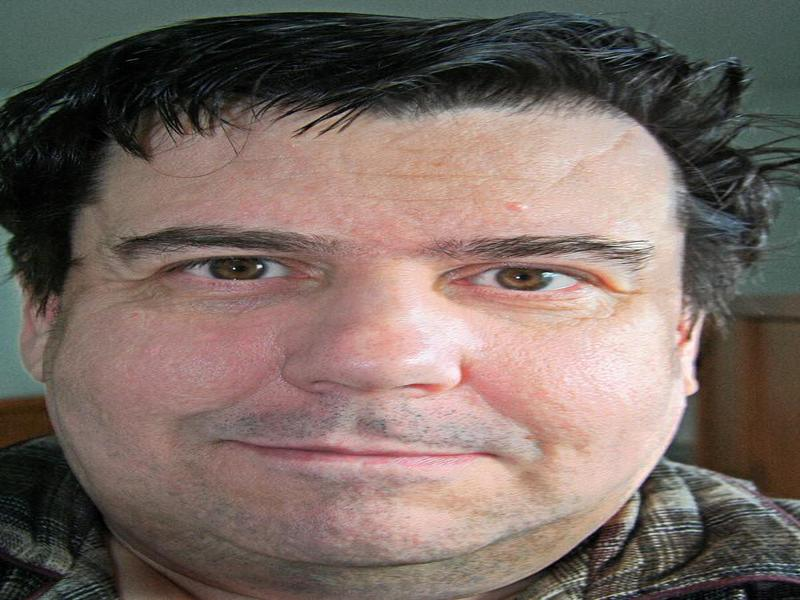person: (8, 11, 792, 600)
